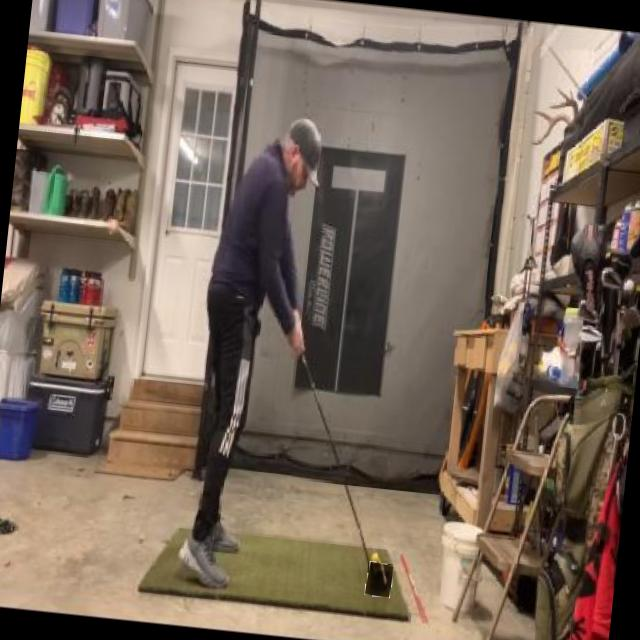club head: (364, 561, 393, 597)
